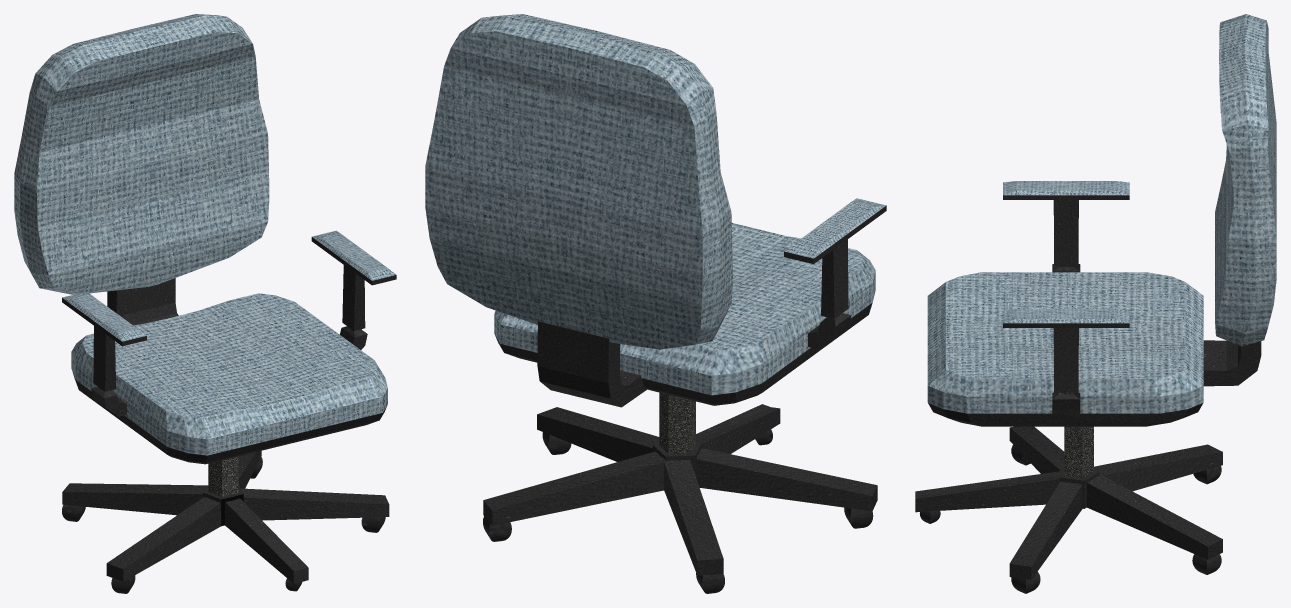
The model's file is rollingchair.gltf.
3 renders of one model, left to right at view 1: azimuth 30°, elevation 25°; view 2: azimuth 150°, elevation 25°; view 3: azimuth 270°, elevation 25°, orthographic. The views are drawn at different scales.
Parts seen in each view (by area): view 1: Cube; view 2: Cube; view 3: Cube.
Part boxes in pixels (<box>): Cube: <box>14,14,396,593</box>; Cube: <box>425,14,886,593</box>; Cube: <box>915,14,1276,593</box>.
Size of the model in its own units: 0.5916 by 0.9275 by 0.6328.
Materials: 1 (1 with a texture image).
